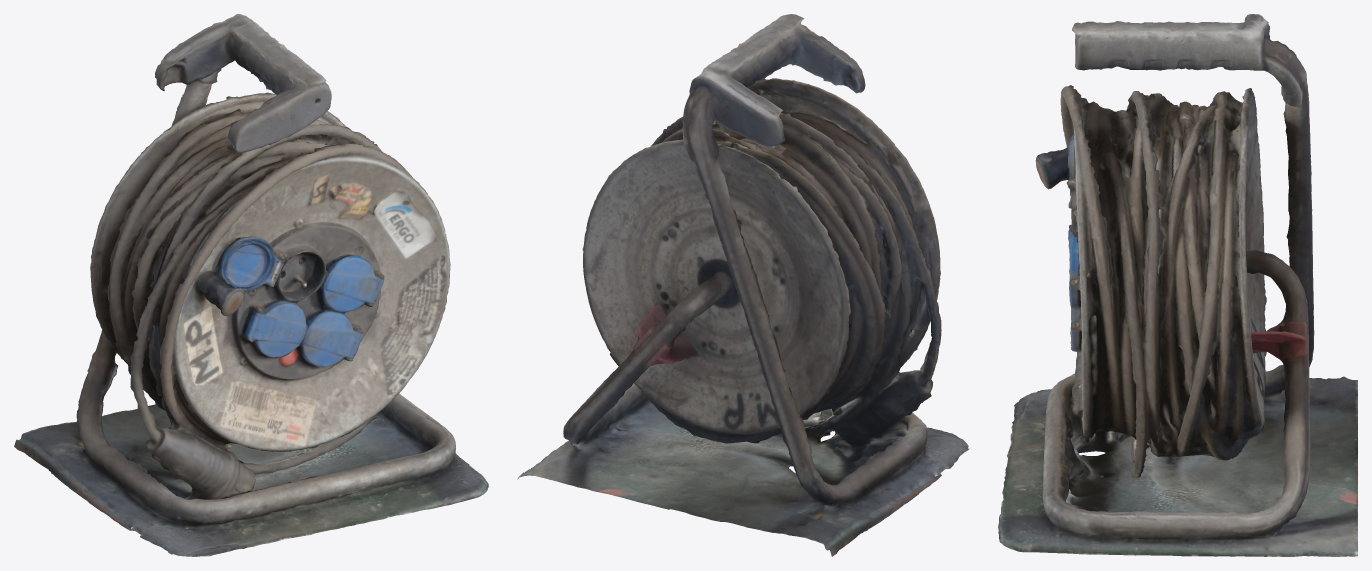
Rendered from cable_reel.glb.
The picture shows the model from 3 angles, left to right: view 1: azimuth 30°, elevation 25°; view 2: azimuth 150°, elevation 25°; view 3: azimuth 270°, elevation 25°; orthographic projection. The views are drawn at different scales.
Visible parts, largest first — view 1: Object_4, Object_5; view 2: Object_4, Object_5; view 3: Object_4, Object_5.
Part boxes in pixels (left/top/right/bottom): Object_4: left=14, top=14, right=488, bottom=556; Object_5: left=142, top=210, right=336, bottom=530; Object_4: left=517, top=14, right=969, bottom=556; Object_5: left=588, top=159, right=924, bottom=441; Object_4: left=998, top=14, right=1357, bottom=556; Object_5: left=1006, top=118, right=1312, bottom=468.
Bounding box in the file's own units: 0.2825 × 0.3503 × 0.2519.
1 material, 1 textured.
